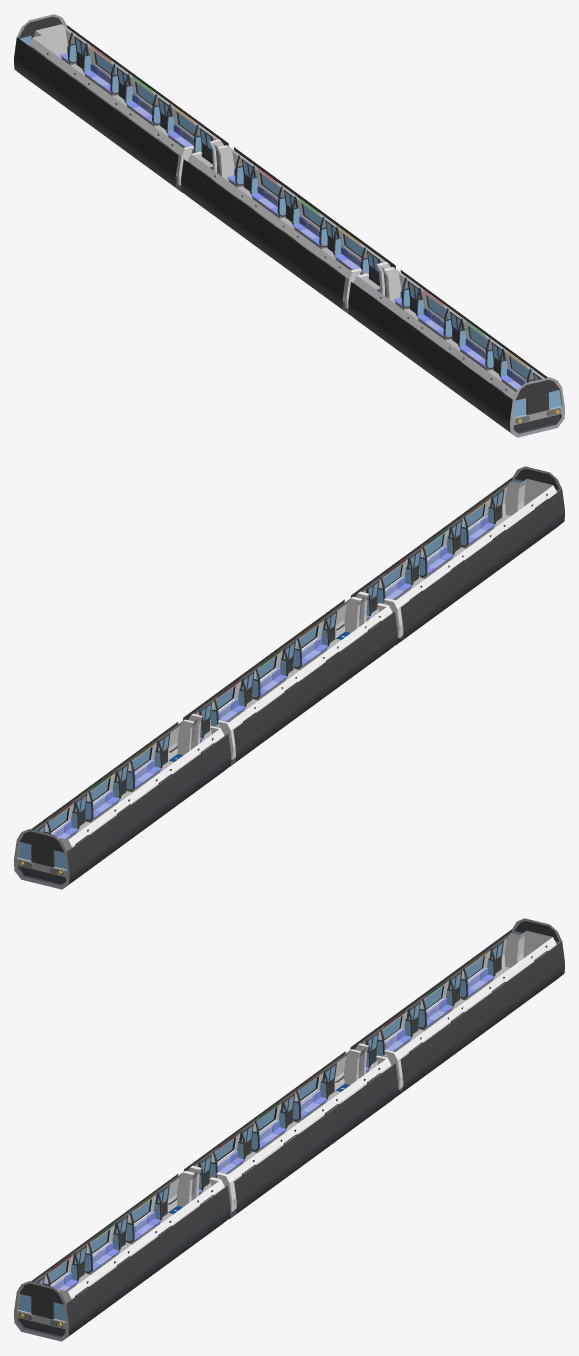
The model's file is Train V3.fbx.
The picture shows the model from 3 angles, top to bottom: view 1: azimuth 30°, elevation 25°; view 2: azimuth 150°, elevation 25°; view 3: azimuth 330°, elevation 25°; orthographic projection.
Parts seen in each view (by area): view 1: Train_cabin (×2), pCube3357, pCube3363, pCube3362, pasted__pPlane767; view 2: Train_cabin (×2), pCube3363, pCube3357, pCube3362, pasted__pPlane767; view 3: Train_cabin (×2), pCube3357, pCube3363, pCube3362, pasted__pPlane767.
Boxes of the visible parts, x1,y1,x2,y2 form: Train_cabin (×2): (28, 24, 390, 308); pCube3357: (348, 270, 564, 437); pCube3363: (14, 14, 228, 193); pCube3362: (181, 147, 395, 314); pasted__pPlane767: (353, 267, 544, 399); Train_cabin (×2): (34, 596, 392, 851); pCube3363: (14, 722, 231, 889); pCube3357: (350, 466, 564, 644); pCube3362: (183, 599, 397, 766); pasted__pPlane767: (355, 479, 556, 638); Train_cabin (×2): (188, 930, 556, 1212); pCube3357: (14, 1174, 230, 1341); pCube3363: (350, 918, 564, 1096); pCube3362: (183, 1051, 398, 1219); pasted__pPlane767: (33, 1170, 224, 1303).
Size of the model in its own units: 1.74 by 1.57 by 26.93.
